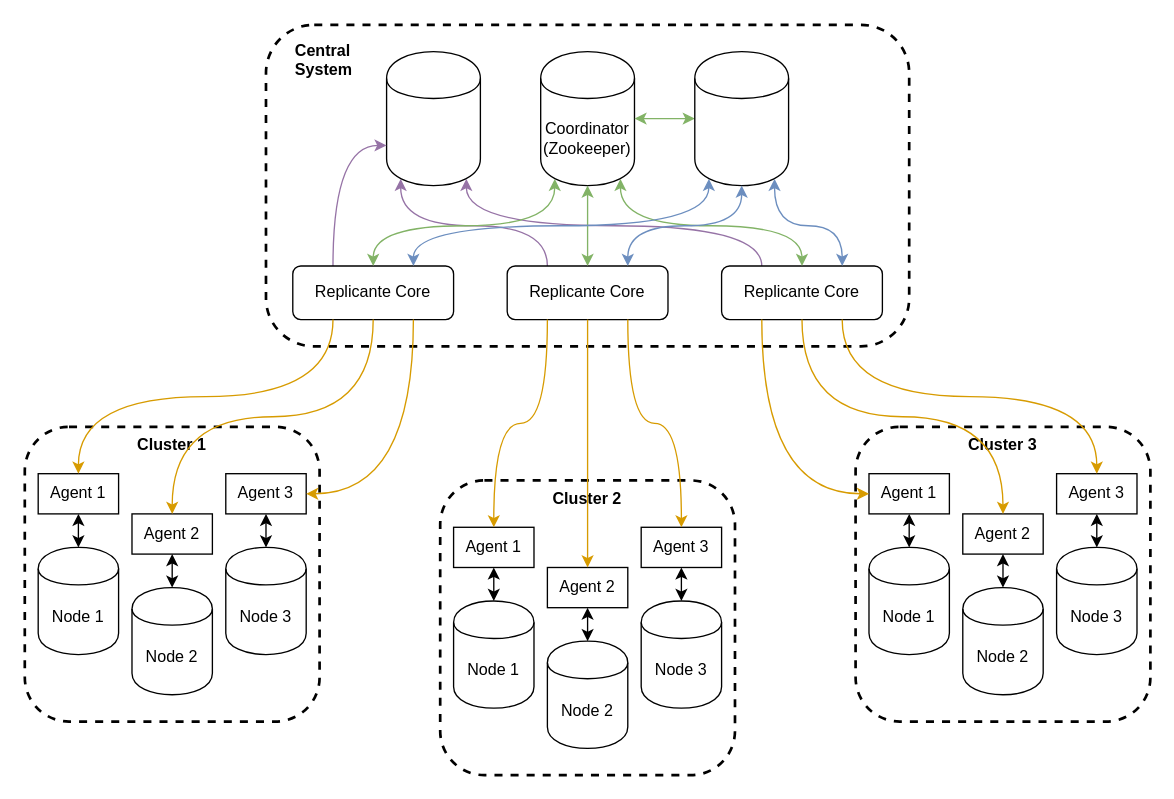
Image size: 1174x799. Some labels were removed from this diagram. The shapes that lost their labels are listed below. From the top down, each one's centre as x and y in pixels, then its label:
the point at 432,118: Datastore (MongoDB)
the point at 741,118: Event Bus (Kafka)
